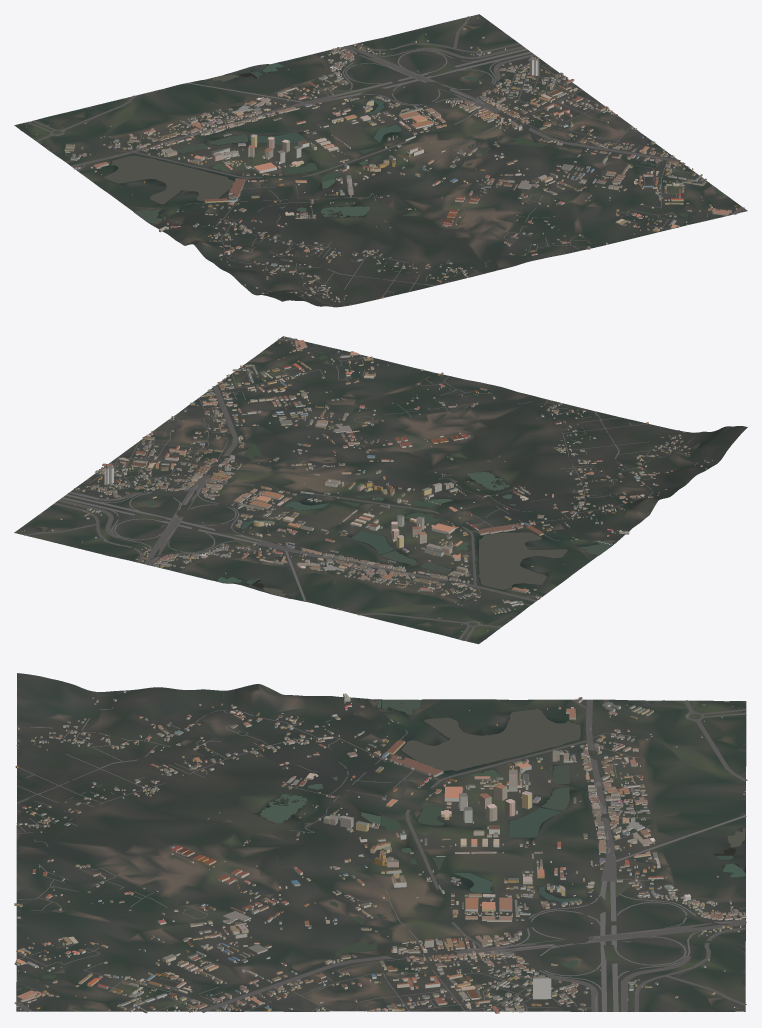
The picture shows the model from 3 angles, top to bottom: view 1: azimuth 30°, elevation 25°; view 2: azimuth 150°, elevation 25°; view 3: azimuth 270°, elevation 25°; orthographic projection. The views are drawn at different scales.
Parts seen in each view (by area): view 1: ground, buildings, roads, water; view 2: ground, buildings, roads, water; view 3: ground, buildings, roads, water.
Boxes of the visible parts, left/top/right/bottom form: ground: left=14, top=14, right=747, bottom=307; buildings: left=36, top=16, right=744, bottom=306; roads: left=27, top=16, right=744, bottom=306; water: left=26, top=38, right=723, bottom=224; ground: left=14, top=336, right=747, bottom=644; buildings: left=21, top=337, right=712, bottom=631; roads: left=24, top=338, right=699, bottom=640; water: left=111, top=350, right=616, bottom=640; ground: left=16, top=673, right=746, bottom=1011; buildings: left=14, top=691, right=746, bottom=1013; roads: left=14, top=699, right=747, bottom=1012; water: left=41, top=699, right=745, bottom=1011.
Bounding box in the file's own units: 2834 × 135 × 2822.
